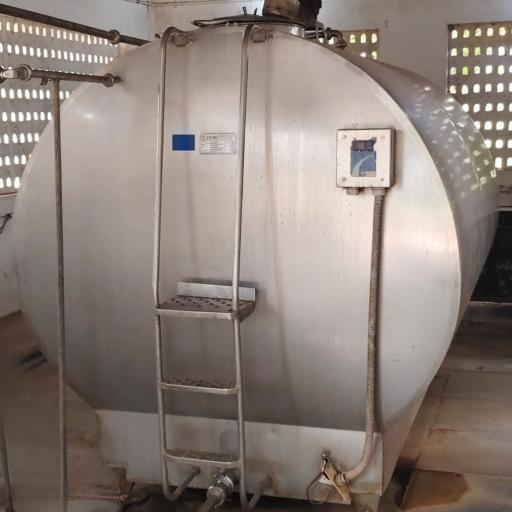silo: (12, 13, 503, 503)
